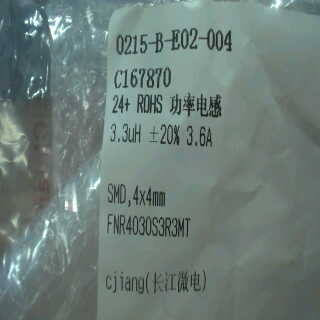3.3uH: (107, 119, 145, 145)
